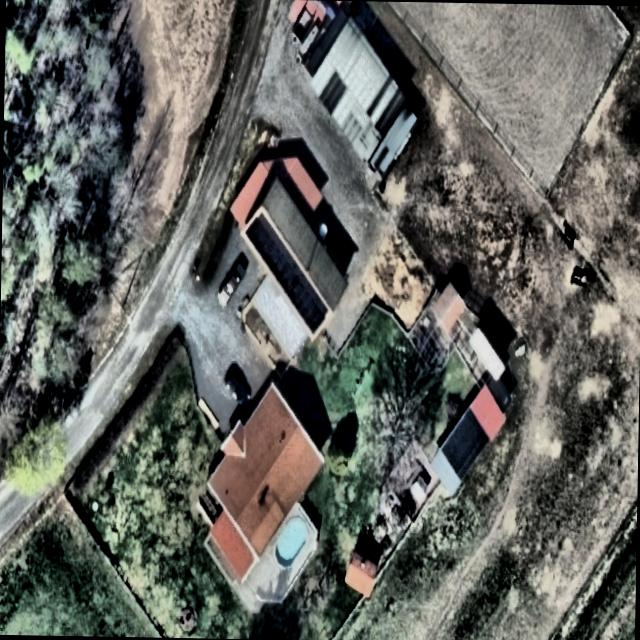roof_pv: (244, 207, 298, 265), (268, 262, 314, 303), (291, 291, 328, 338)
